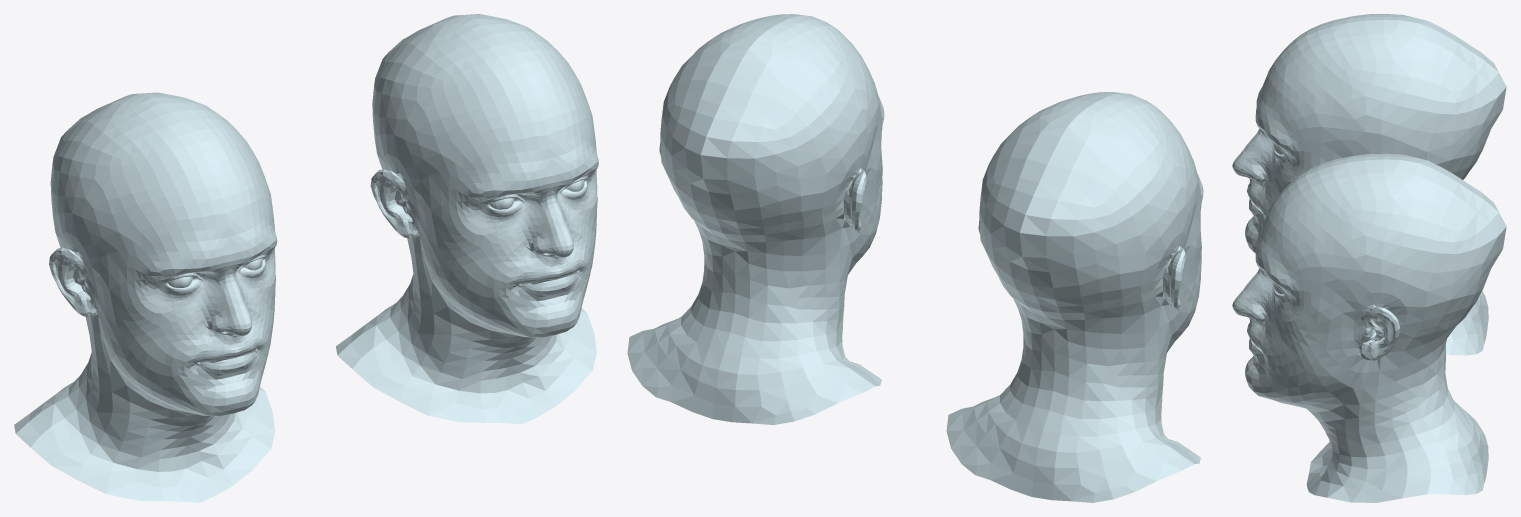
File: convert.glb
3 views of the same model, side by side, from view 1: azimuth 30°, elevation 25°; view 2: azimuth 150°, elevation 25°; view 3: azimuth 270°, elevation 25° (orthographic). The views are drawn at different scales.
Visible parts, largest first — view 1: Mesh_both_many; view 2: Mesh_both_many; view 3: Mesh_both_many.
Boxes of the visible parts, x1,y1,x2,y2 form: Mesh_both_many: (14, 14, 598, 502); Mesh_both_many: (627, 14, 1203, 502); Mesh_both_many: (1232, 14, 1506, 502).
Size of the model in its own units: 520 by 327 by 249.
